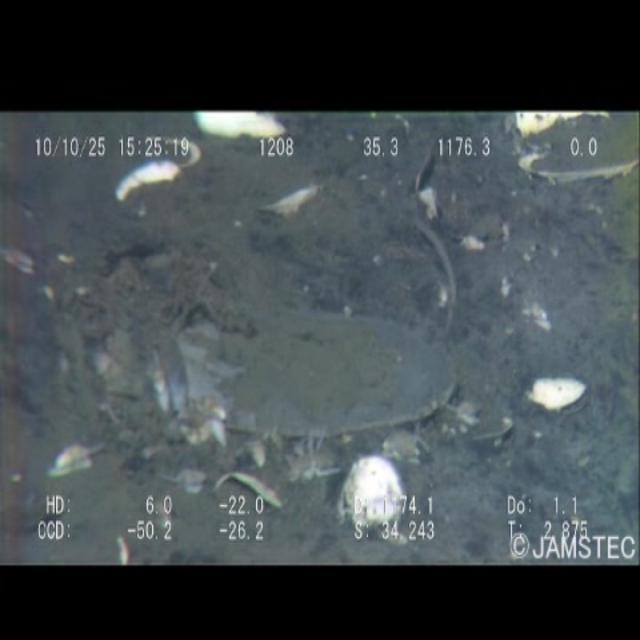Natual-Debris: (66, 188, 500, 454)
